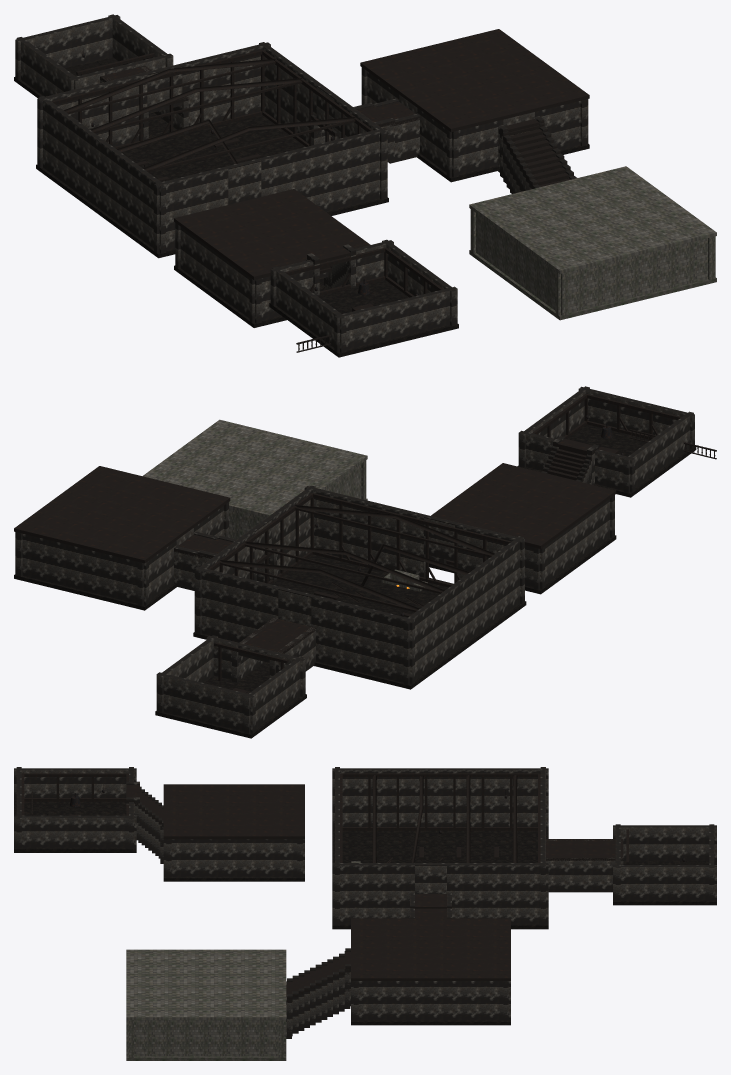
File: world.glb
3 renders of one model, top to bottom at view 1: azimuth 30°, elevation 25°; view 2: azimuth 150°, elevation 25°; view 3: azimuth 270°, elevation 25°, orthographic. The views are drawn at different scales.
Visible parts, largest first — view 1: Build_amberwood_cinder_chapel_sooted_plaster, Roof_amberwood_cinder_chapel_charred_timber, Roof_amberwood_cinder_chapel_ashlar, Build_amberwood_cinder_chapel_charred_timber, Walk_scorched_ground, Build_amberwood_cinder_chapel_ashlar, Walk_rubble_stone; view 2: Build_amberwood_cinder_chapel_sooted_plaster, Roof_amberwood_cinder_chapel_charred_timber, Build_amberwood_cinder_chapel_charred_timber, Roof_amberwood_cinder_chapel_ashlar, Walk_scorched_ground, Build_amberwood_cinder_chapel_ashlar; view 3: Build_amberwood_cinder_chapel_sooted_plaster, Roof_amberwood_cinder_chapel_charred_timber, Roof_amberwood_cinder_chapel_ashlar, Walk_scorched_ground, Build_amberwood_cinder_chapel_charred_timber, Build_amberwood_cinder_chapel_ashlar, Walk_rubble_stone.
Boxes of the visible parts, <box> form: Build_amberwood_cinder_chapel_sooted_plaster: <box>15,14,588,352</box>; Roof_amberwood_cinder_chapel_charred_timber: <box>100,29,589,279</box>; Roof_amberwood_cinder_chapel_ashlar: <box>469,166,716,273</box>; Build_amberwood_cinder_chapel_charred_timber: <box>51,50,516,352</box>; Walk_scorched_ground: <box>14,57,589,357</box>; Build_amberwood_cinder_chapel_ashlar: <box>470,209,715,315</box>; Walk_rubble_stone: <box>469,250,716,320</box>; Build_amberwood_cinder_chapel_sooted_plaster: <box>15,386,694,734</box>; Roof_amberwood_cinder_chapel_charred_timber: <box>14,438,616,660</box>; Build_amberwood_cinder_chapel_charred_timber: <box>208,394,716,693</box>; Roof_amberwood_cinder_chapel_ashlar: <box>142,419,367,517</box>; Walk_scorched_ground: <box>14,424,696,738</box>; Build_amberwood_cinder_chapel_ashlar: <box>229,460,427,591</box>; Build_amberwood_cinder_chapel_sooted_plaster: <box>14,767,716,1038</box>; Roof_amberwood_cinder_chapel_charred_timber: <box>126,784,623,1002</box>; Roof_amberwood_cinder_chapel_ashlar: <box>126,949,286,1020</box>; Walk_scorched_ground: <box>14,801,716,1025</box>; Build_amberwood_cinder_chapel_charred_timber: <box>21,773,628,864</box>; Build_amberwood_cinder_chapel_ashlar: <box>126,861,360,1057</box>; Walk_rubble_stone: <box>126,1056,286,1060</box>.
Size of the model in its own units: 51.55 by 13.69 by 75.1.
11 materials, 11 textured.
